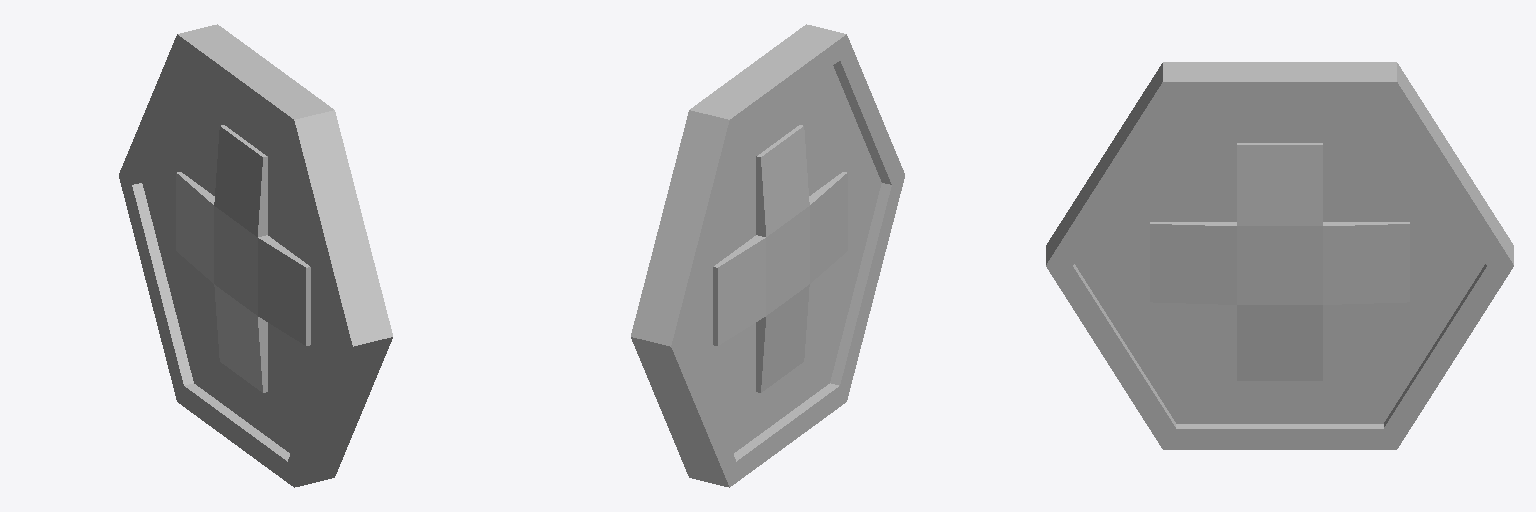
The model's file is coin.obj.
3 views of the same model, side by side, from view 1: azimuth 30°, elevation 25°; view 2: azimuth 150°, elevation 25°; view 3: azimuth 270°, elevation 25° (orthographic).
Parts seen in each view (by area): view 1: Cylinder; view 2: Cylinder; view 3: Cylinder.
Boxes of the visible parts, x1=… form: Cylinder: x1=119, y1=24, x2=392, y2=487; Cylinder: x1=631, y1=24, x2=904, y2=487; Cylinder: x1=1046, y1=62, x2=1513, y2=449.
Bounding box in the file's own units: 0.2 × 1.73 × 2.